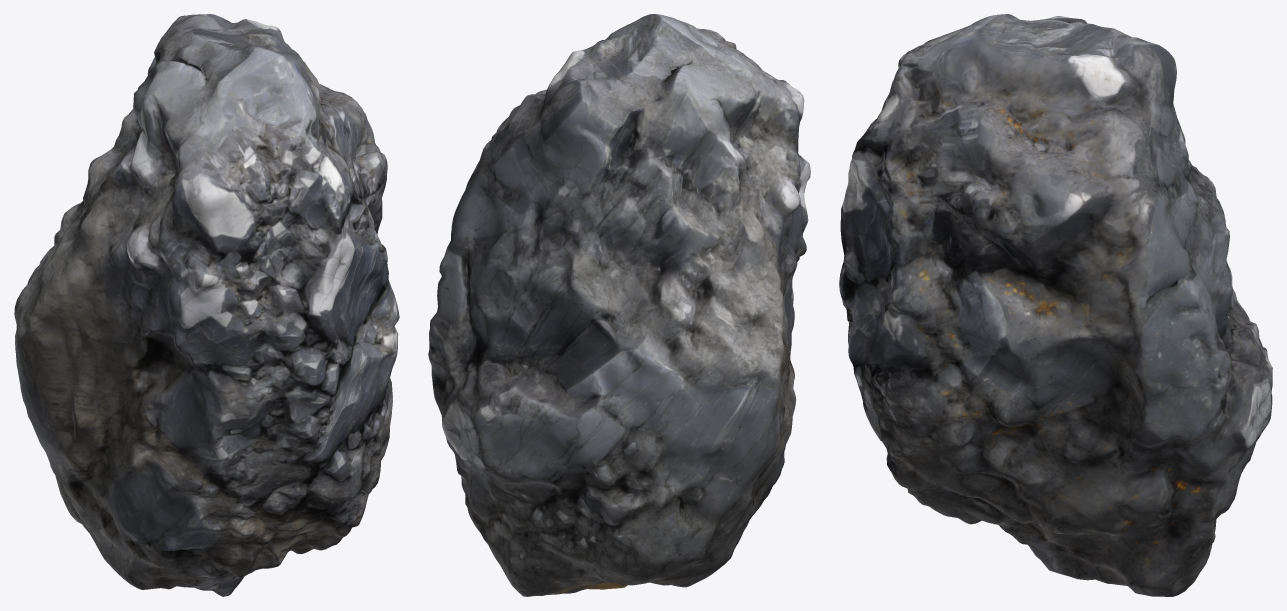
The model's file is AI_LeadOre.fbx.
3 renders of one model, left to right at view 1: azimuth 30°, elevation 25°; view 2: azimuth 150°, elevation 25°; view 3: azimuth 270°, elevation 25°, orthographic. The views are drawn at different scales.
Visible parts, largest first — view 1: Mesh1.0; view 2: Mesh1.0; view 3: Mesh1.0.
Part boxes in pixels (x1,y1,x2,y2): Mesh1.0: (14,14,399,596); Mesh1.0: (428,14,810,596); Mesh1.0: (839,14,1272,596).
Size of the model in its own units: 124 by 200 by 140.
Materials: 1 (1 with a texture image).
